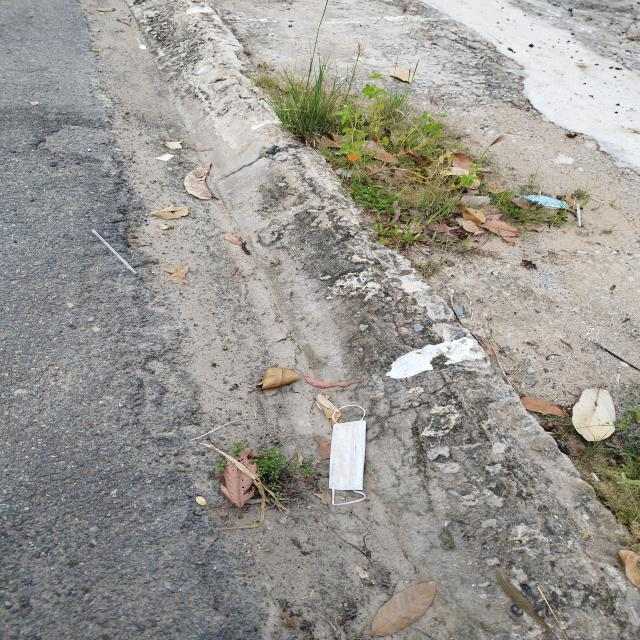drinking straw: (91, 229, 138, 275)
mask: (328, 404, 366, 506)
